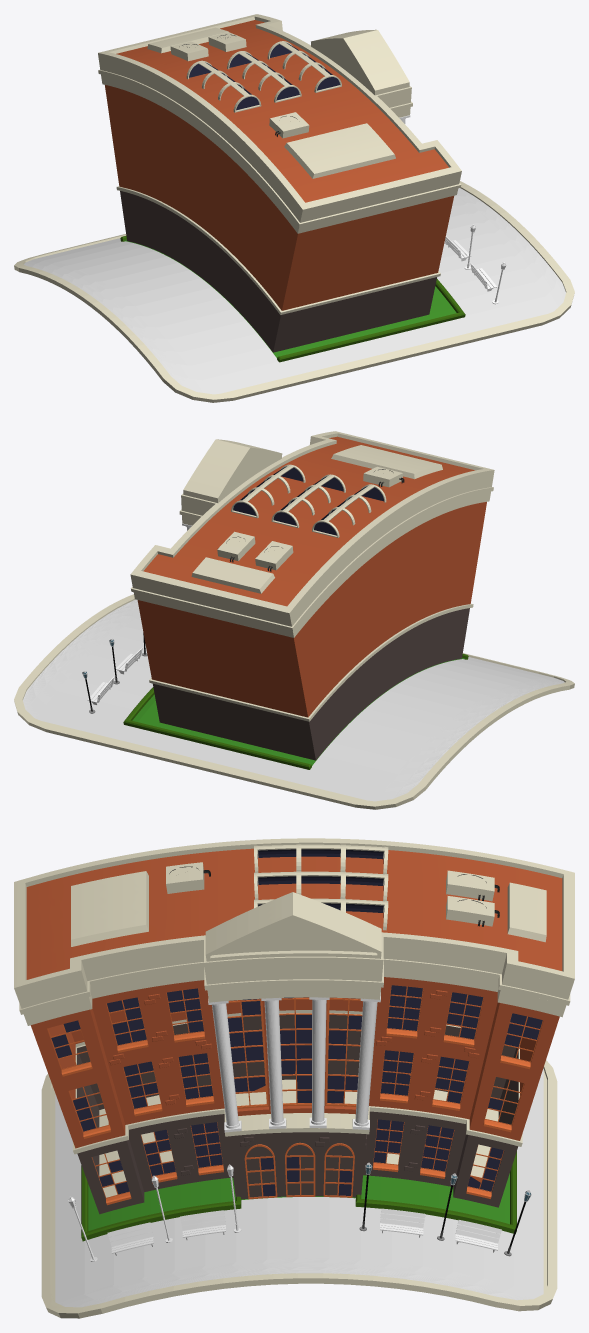
The model's file is school_v2_opt.glb.
3 views of the same model, one above another, from view 1: azimuth 30°, elevation 25°; view 2: azimuth 150°, elevation 25°; view 3: azimuth 270°, elevation 25° (orthographic). The views are drawn at different scales.
Size of the model in its own units: 22.71 by 13.18 by 19.85.
